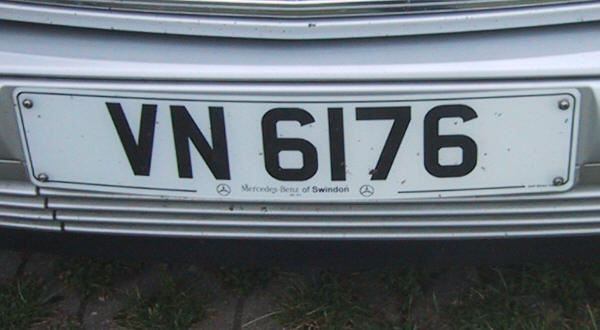license_plate: (12, 87, 581, 199)
